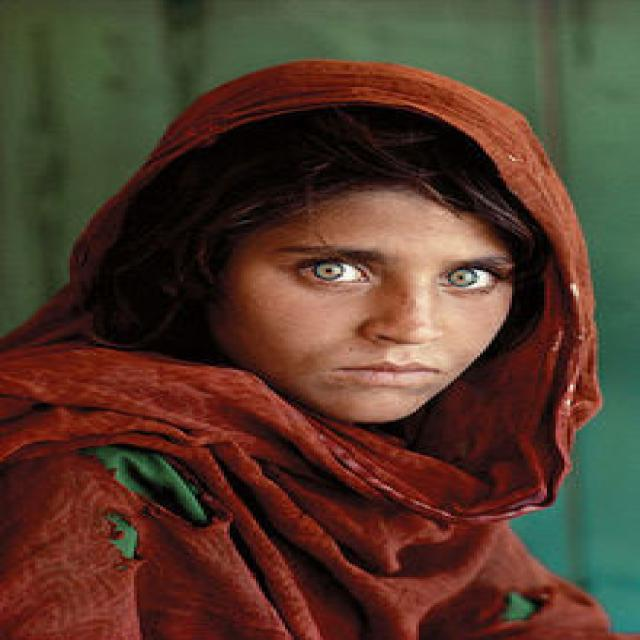mobile_phonerotation: (0, 56, 637, 638)
